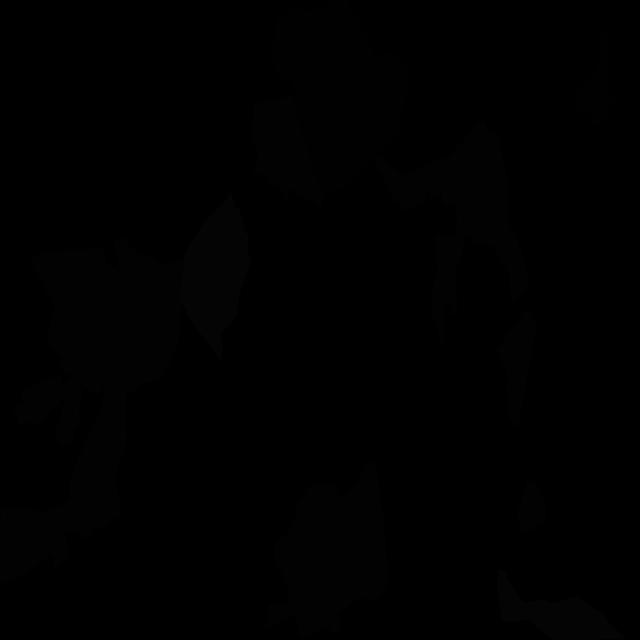cardboard: (0, 386, 127, 583), (403, 120, 529, 307), (261, 461, 389, 640), (31, 249, 150, 394), (114, 237, 184, 386), (252, 95, 325, 208), (495, 309, 536, 431), (13, 376, 82, 448), (430, 230, 458, 349), (375, 156, 428, 212), (517, 479, 546, 532)
rigid_plastic: (270, 0, 408, 194), (572, 33, 616, 127)
soft_plastic: (178, 194, 251, 360), (497, 570, 624, 640)
